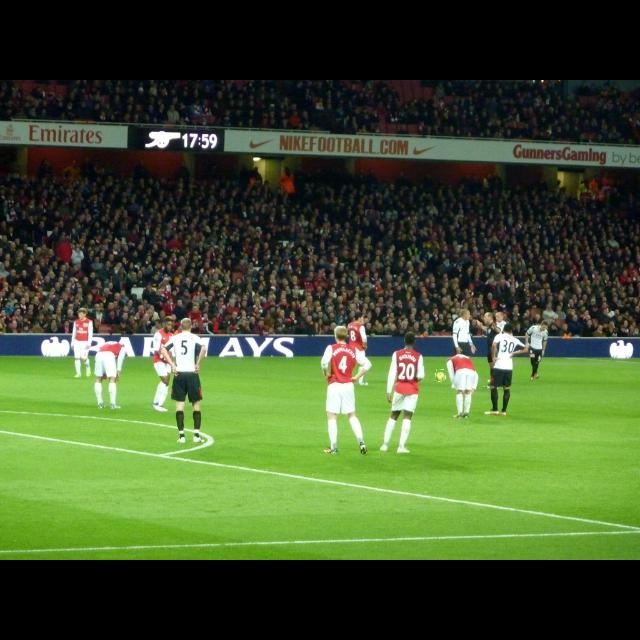Football: (436, 370, 446, 382)
